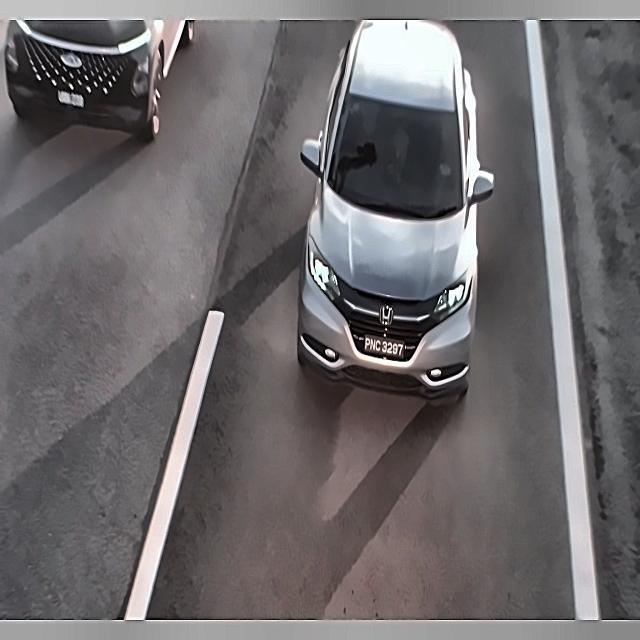car: (360, 326, 406, 375), (47, 86, 96, 117)
